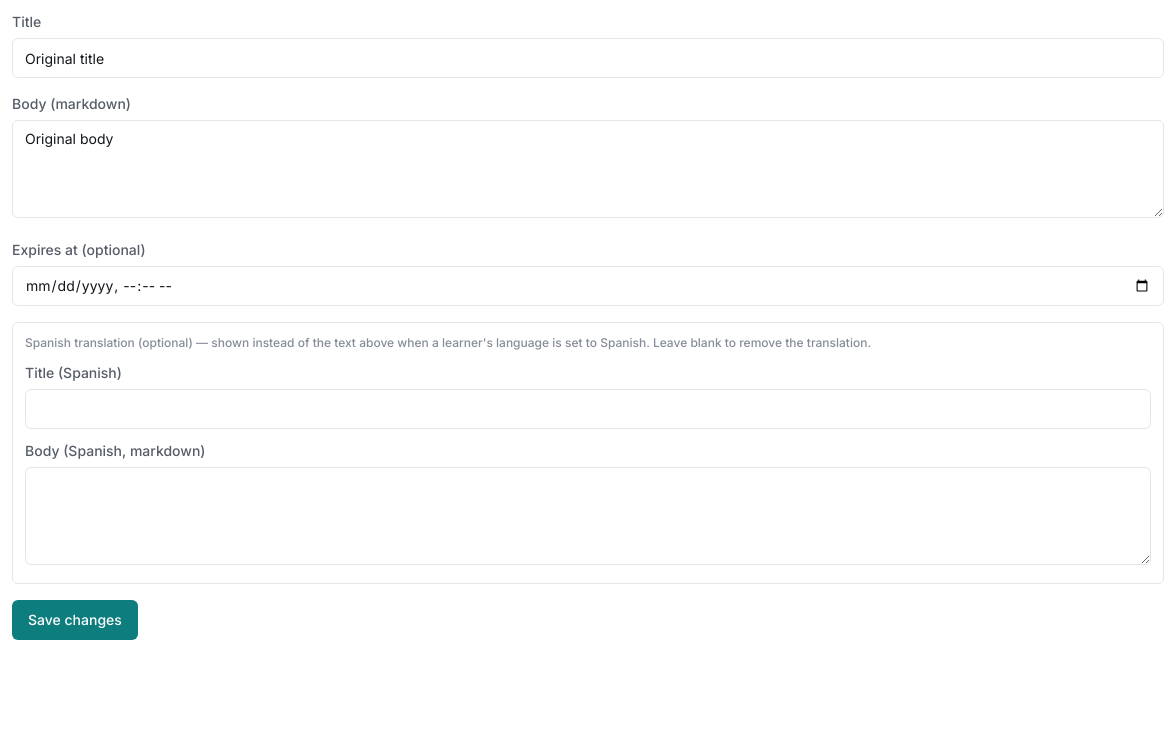
it: EditAnnouncementForm › renders an error returned by the action
This screenshot has width=1176, height=732.
What coordinates should you click on to do the following:
click the button "Save changes"
I would click on:
 (75, 620)
Its box is [12,600,138,640].
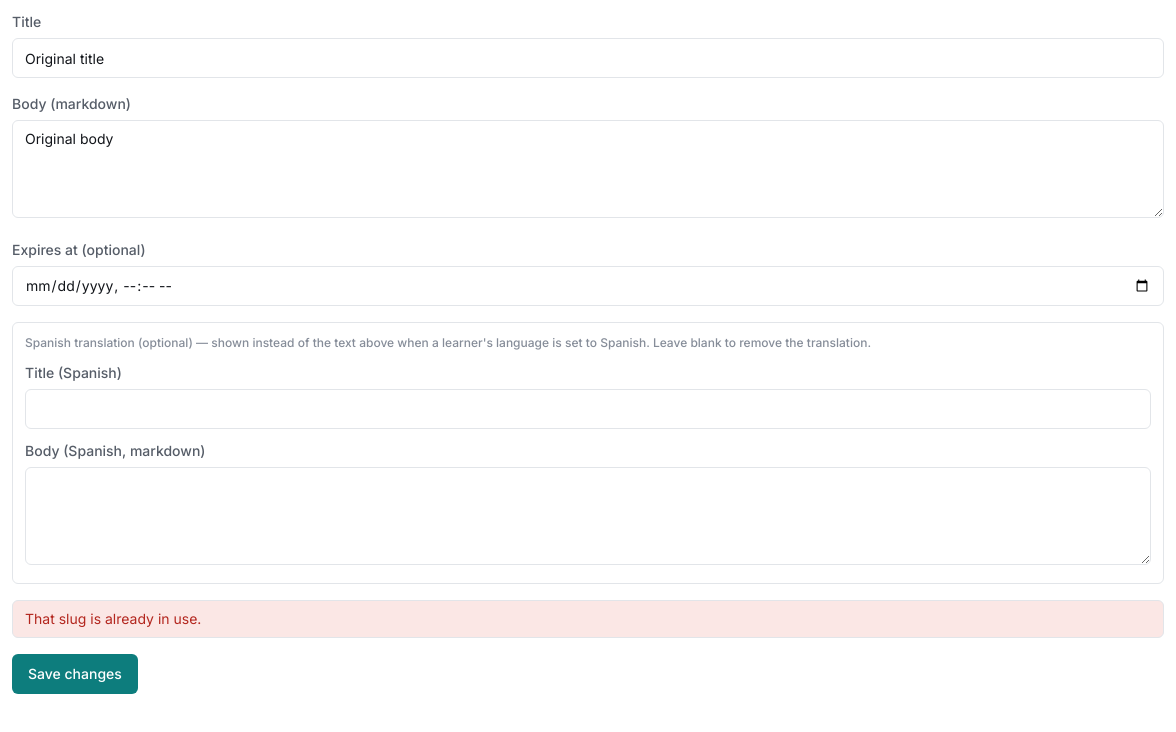
Check: the message reads "That slug is already in use.", box [25,610,201,627]
